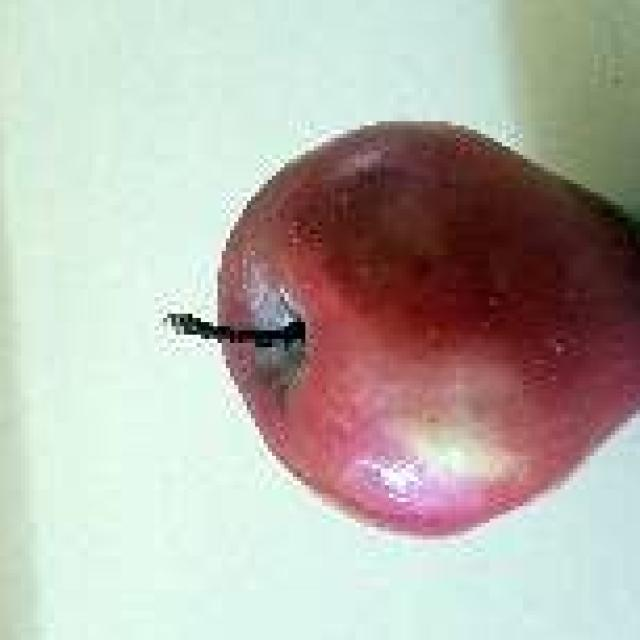Good_Apple 10-21 days: (167, 125, 640, 534)
